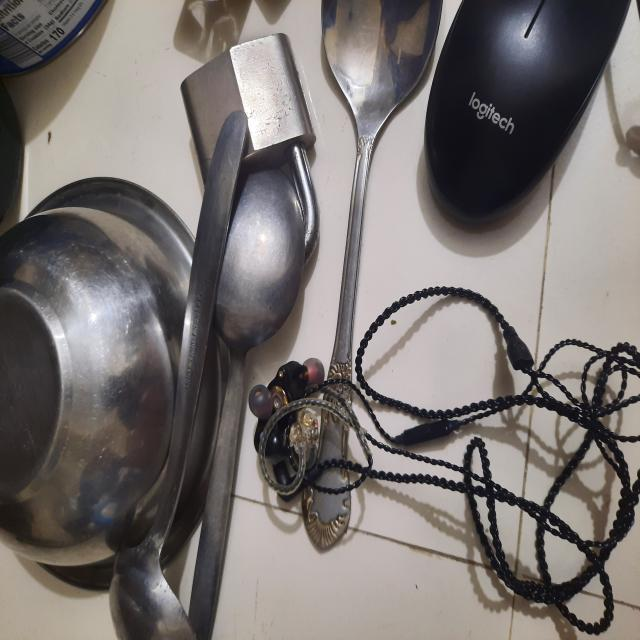Cable: (269, 289, 640, 623)
E-waste: (448, 7, 638, 254)
Metal: (14, 164, 270, 640), (180, 0, 431, 310)
